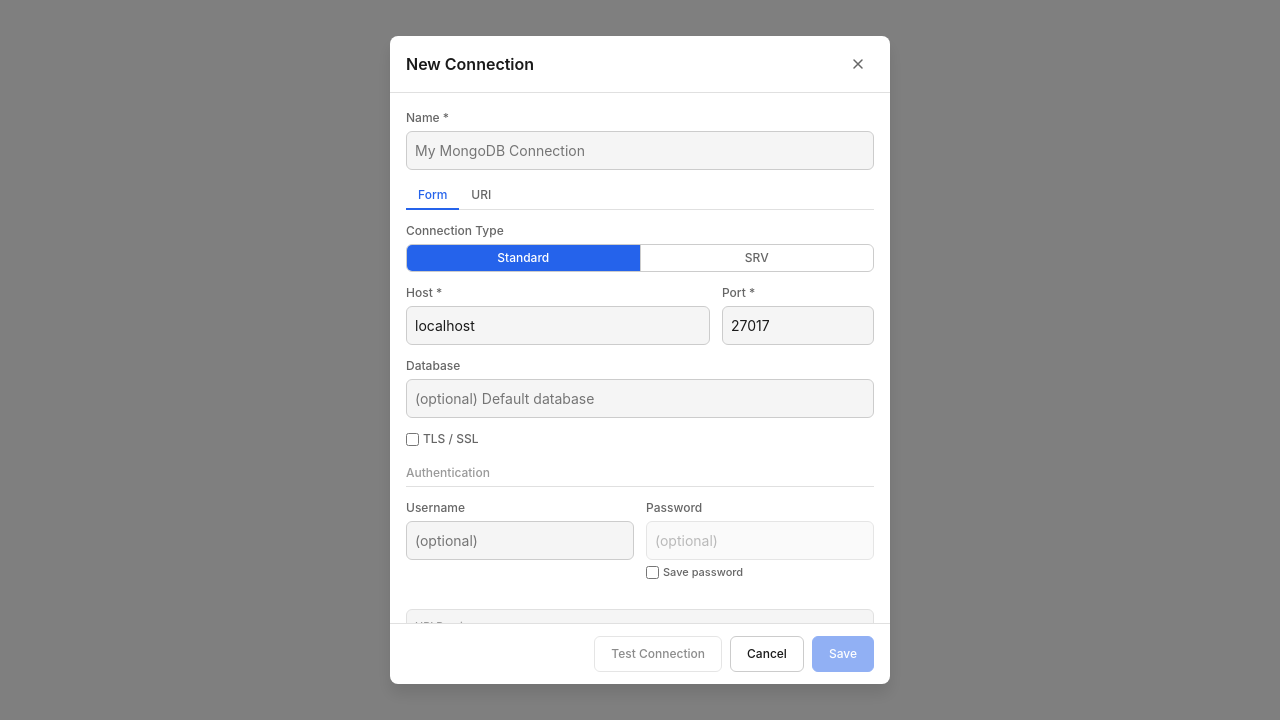
Scenario: ConnectionDialog › password field and save password behavior › password field is enabled when save password is checked
The image size is (1280, 720).
Click the checkbox with test id "save-password-checkbox" at (652, 572), box left=646, top=566, right=659, bottom=579
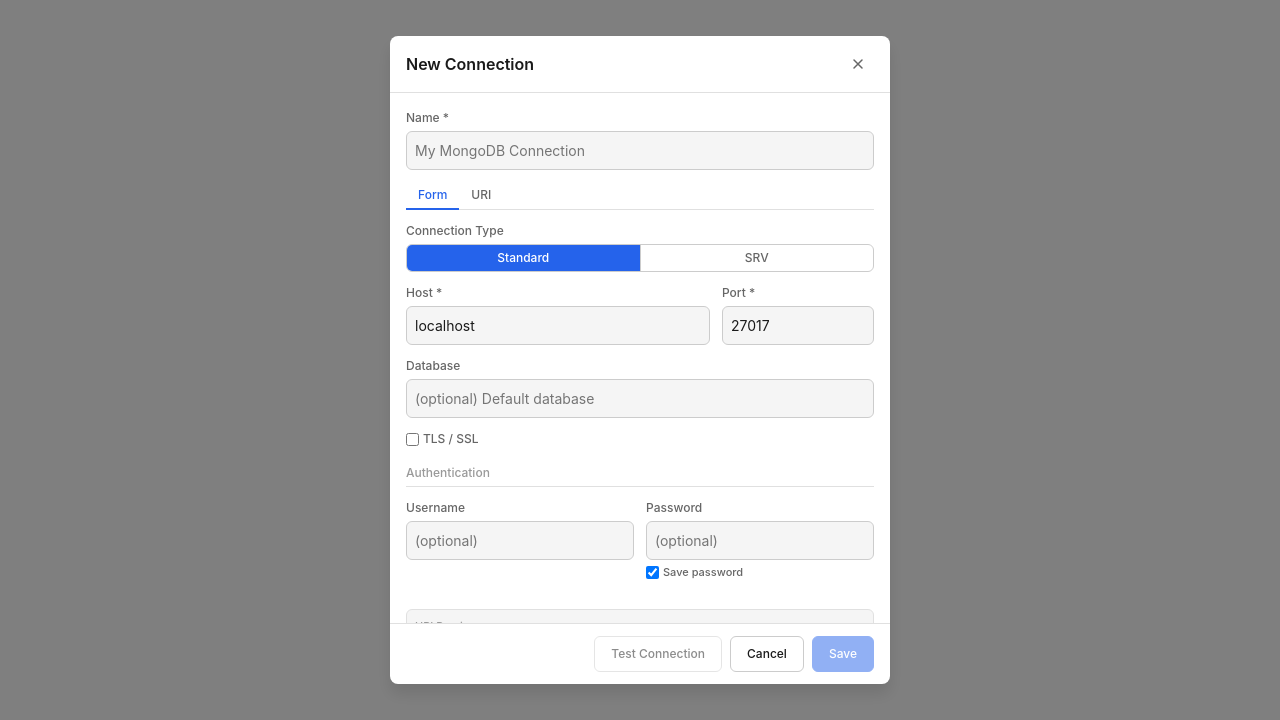
Expected: the password field labelled "Password" is enabled, left=646, top=521, right=874, bottom=560
